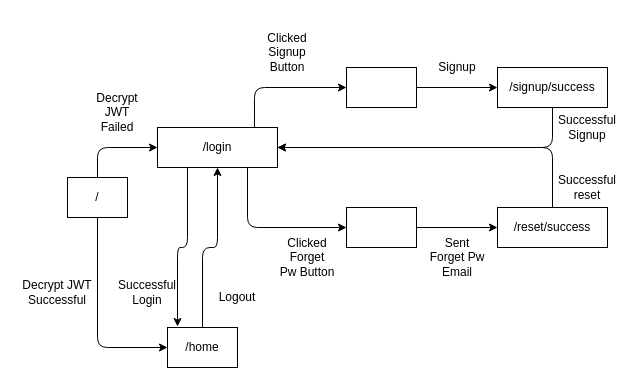
Image size: 634x385. Some labels were removed from this diagram. The shapes that lost their labels are listed below. From the top down, each one's centre as x and y in pixels, then its label:
At point (381, 87): "/signup".
At point (381, 227): "/reset".
